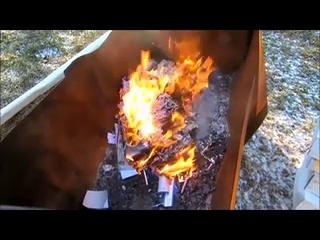Fire: (117, 29, 210, 178)
